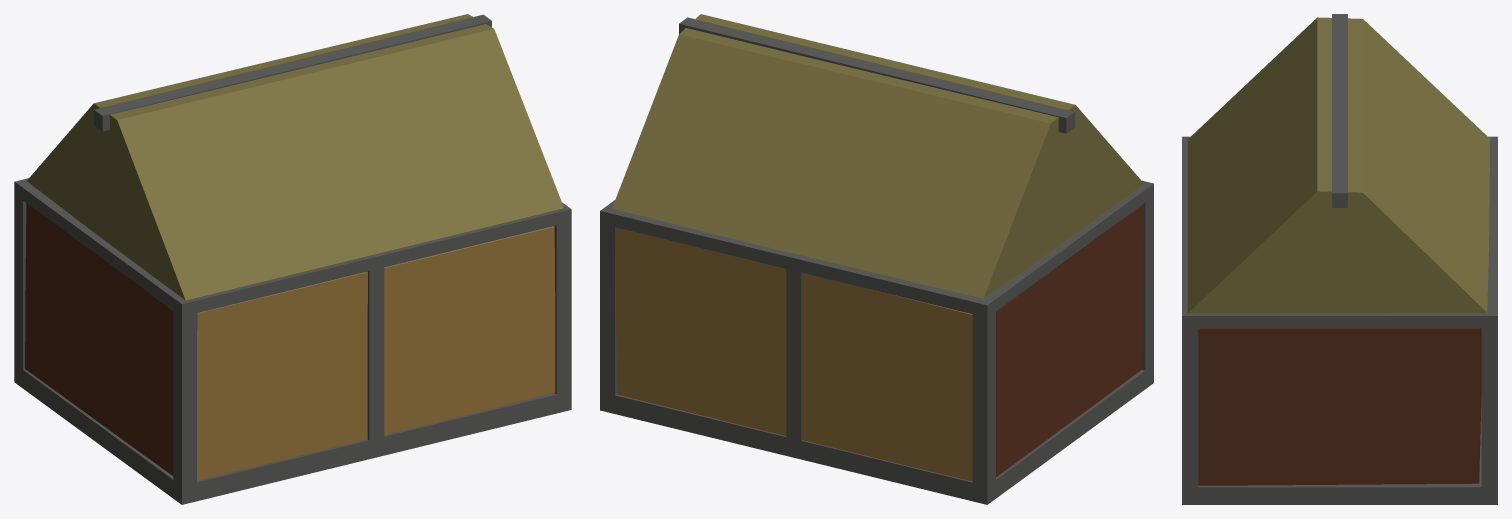
The model's file is cargo_enclosed_frame.glb.
3 views of the same model, side by side, from view 1: azimuth 30°, elevation 25°; view 2: azimuth 150°, elevation 25°; view 3: azimuth 270°, elevation 25° (orthographic). The views are drawn at different scales.
Parts seen in each view (by area): view 1: cargo_enclosed_frame; view 2: cargo_enclosed_frame; view 3: cargo_enclosed_frame.
Boxes of the visible parts, <box> form: cargo_enclosed_frame: <box>14,14,571,504</box>; cargo_enclosed_frame: <box>600,14,1153,504</box>; cargo_enclosed_frame: <box>1182,14,1497,504</box>.
Bounding box in the file's own units: 1.3 × 1.05 × 0.968.
